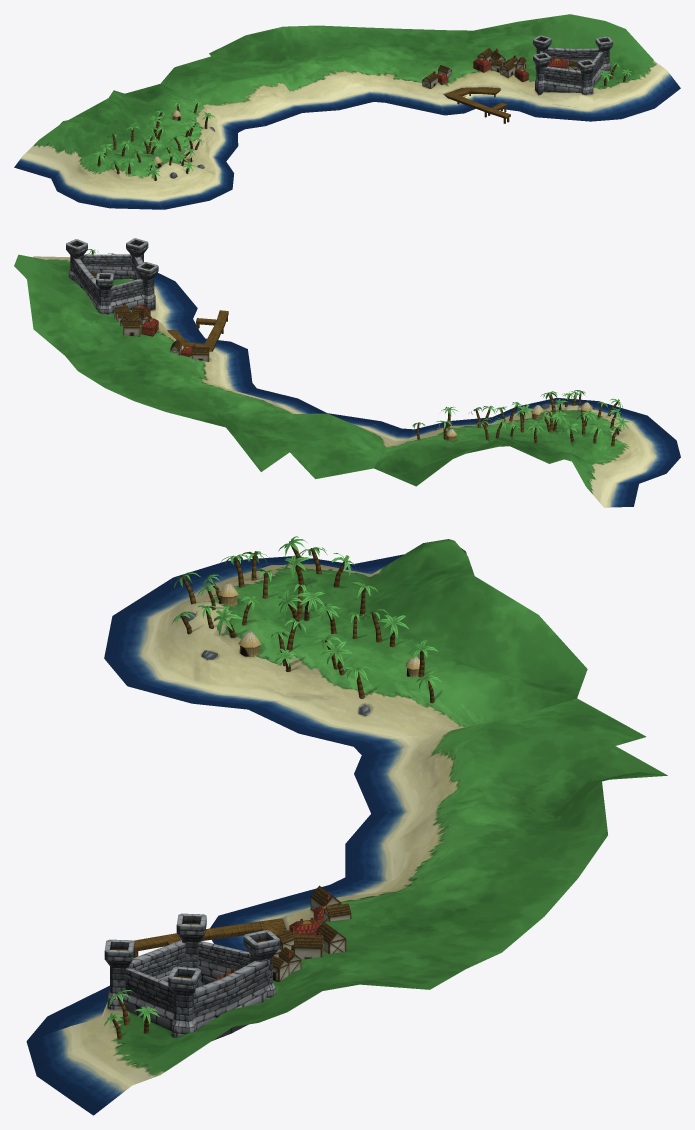
The model's file is IslandPort_A.FBX.
3 renders of one model, top to bottom at view 1: azimuth 30°, elevation 25°; view 2: azimuth 150°, elevation 25°; view 3: azimuth 270°, elevation 25°, orthographic. The views are drawn at different scales.
Visible parts, largest first — view 1: Msh_IslandPort_A; view 2: Msh_IslandPort_A; view 3: Msh_IslandPort_A.
Boxes of the visible parts, bbox=[...] form: Msh_IslandPort_A: bbox=[14, 14, 680, 209]; Msh_IslandPort_A: bbox=[14, 238, 680, 507]; Msh_IslandPort_A: bbox=[26, 536, 667, 1115].
Bounding box in the file's own units: 4315 × 330 × 2063.
1 material, 1 textured.
